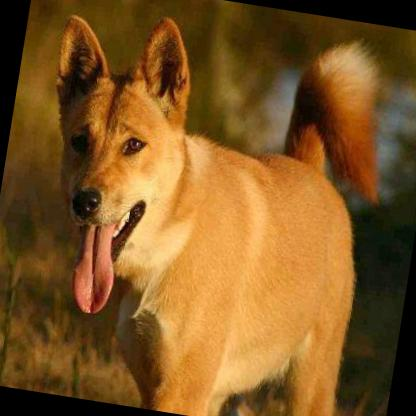dingo: (3, 0, 403, 416)
